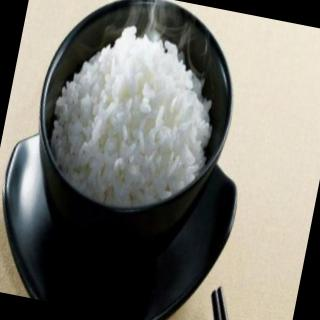Nasi: (36, 11, 231, 223)
